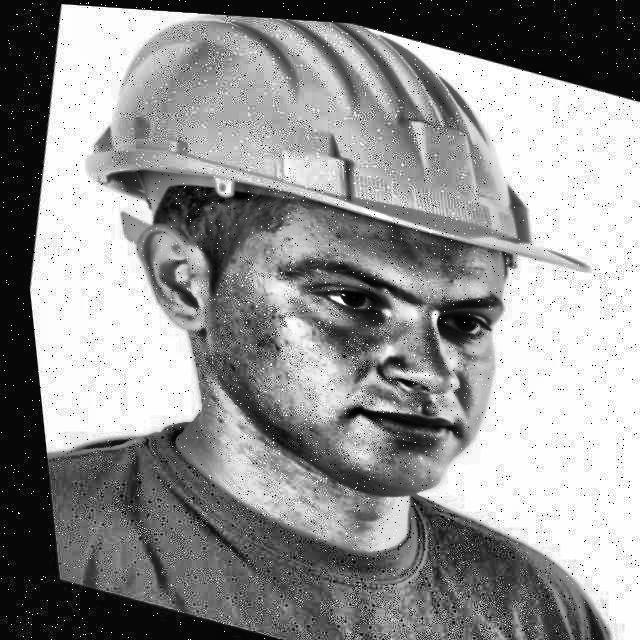Helmet: (5, 0, 640, 550)
